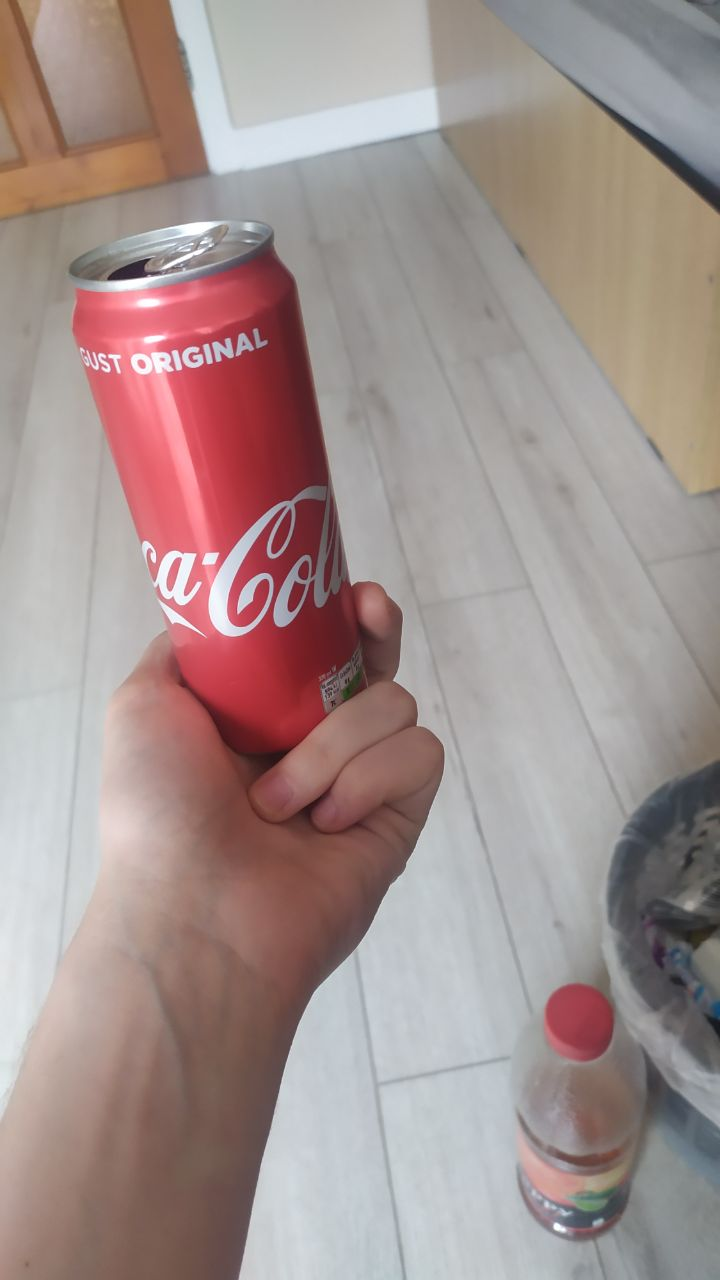Can: (68, 215, 375, 763)
